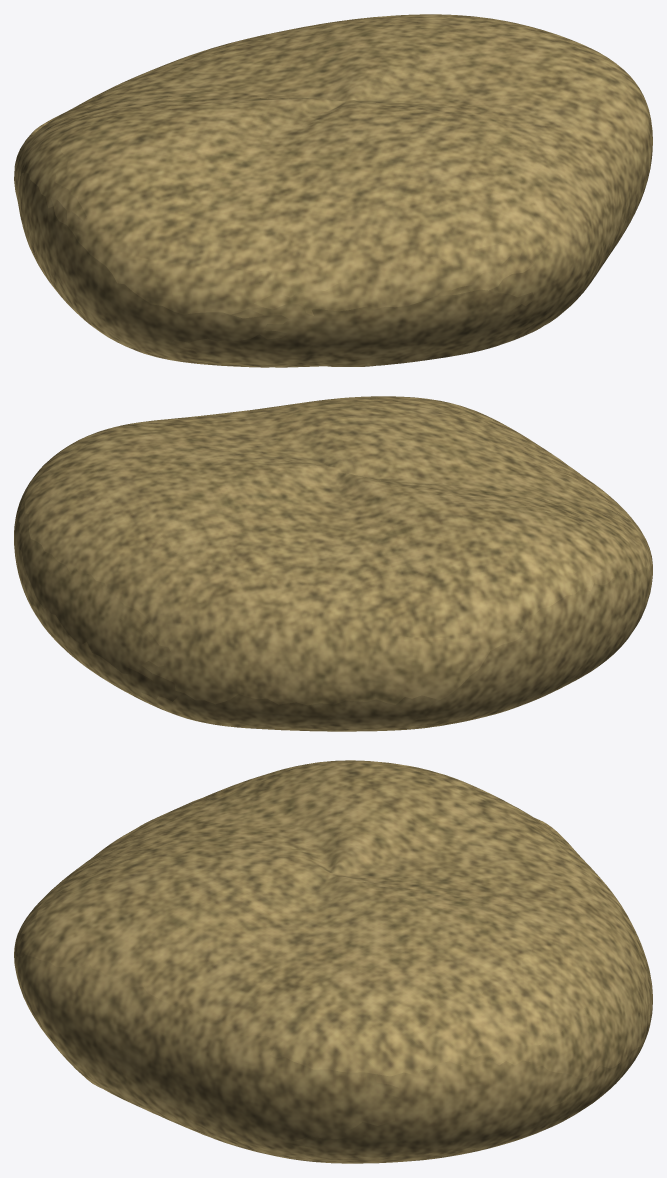
3 views of the same model, one above another, from view 1: azimuth 30°, elevation 25°; view 2: azimuth 150°, elevation 25°; view 3: azimuth 270°, elevation 25° (orthographic). The views are drawn at different scales.
Parts seen in each view (by area): view 1: world; view 2: world; view 3: world.
Boxes of the visible parts, x1,y1,x2,y2 form: world: [14, 14, 652, 367]; world: [14, 396, 652, 731]; world: [14, 760, 652, 1163].
Size of the model in its own units: 0.12 by 0.0386 by 0.1091.
1 material, 1 textured.
